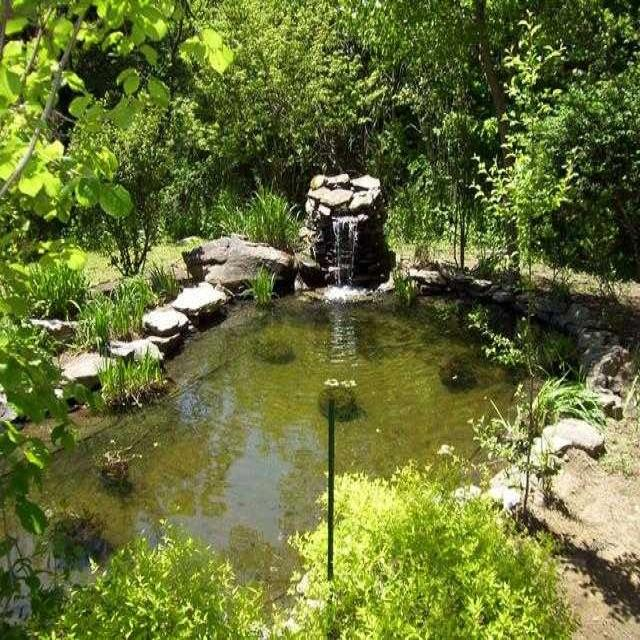Ponds: (1, 173, 634, 640)
